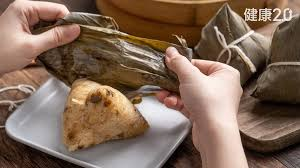zongzi: (62, 79, 149, 151), (194, 3, 269, 84), (253, 15, 299, 103)
